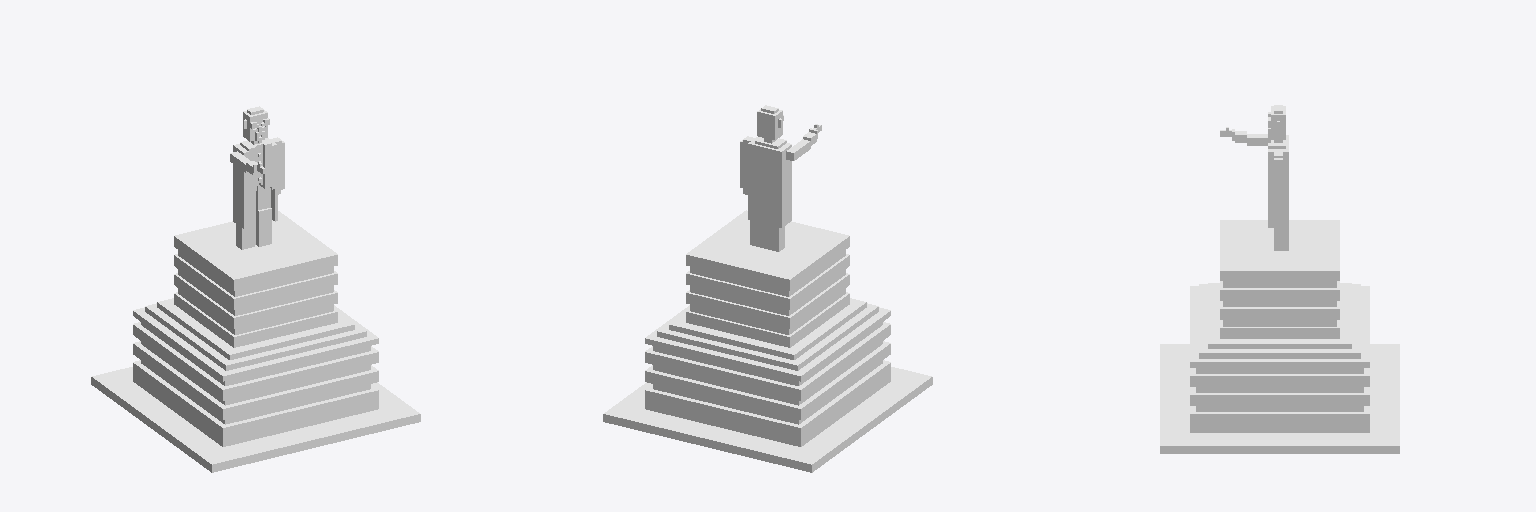
File: State.obj
3 renders of one model, left to right at view 1: azimuth 30°, elevation 25°; view 2: azimuth 150°, elevation 25°; view 3: azimuth 270°, elevation 25°, orthographic.
Visible parts, largest first — view 1: object 1; view 2: object 1; view 3: object 1.
Part boxes in pixels (bbox=[...]): object 1: bbox=[91, 106, 420, 472]; object 1: bbox=[603, 105, 932, 472]; object 1: bbox=[1160, 105, 1399, 453].
Size of the model in its own units: 8 by 10.8 by 8.